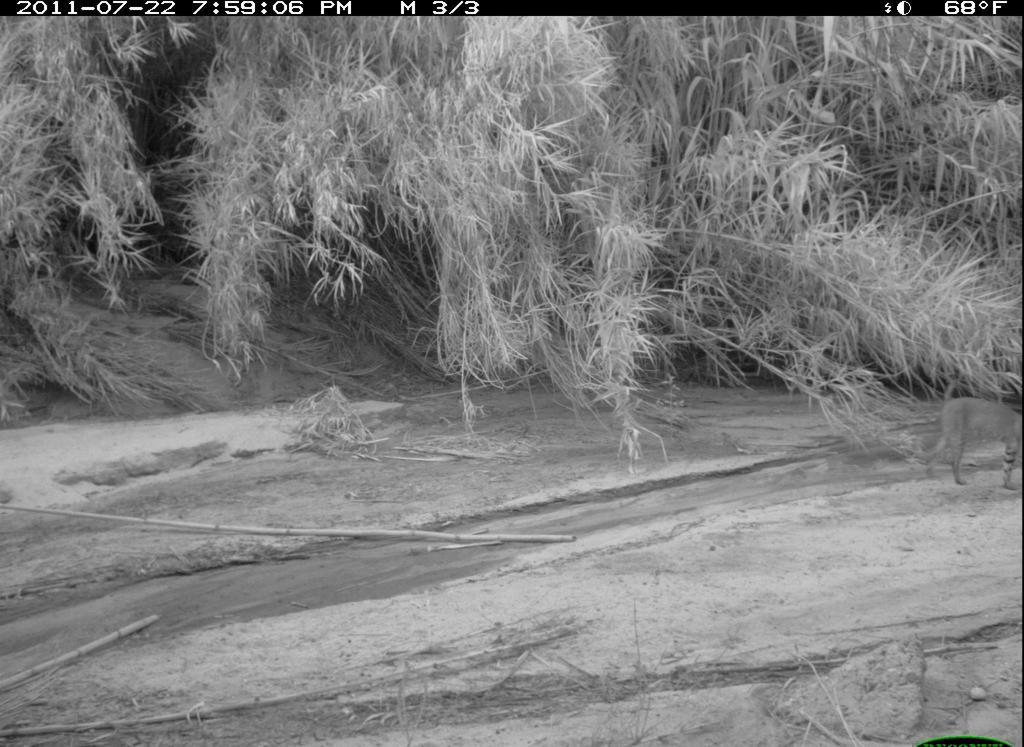bobcat: (873, 378, 1017, 497)
